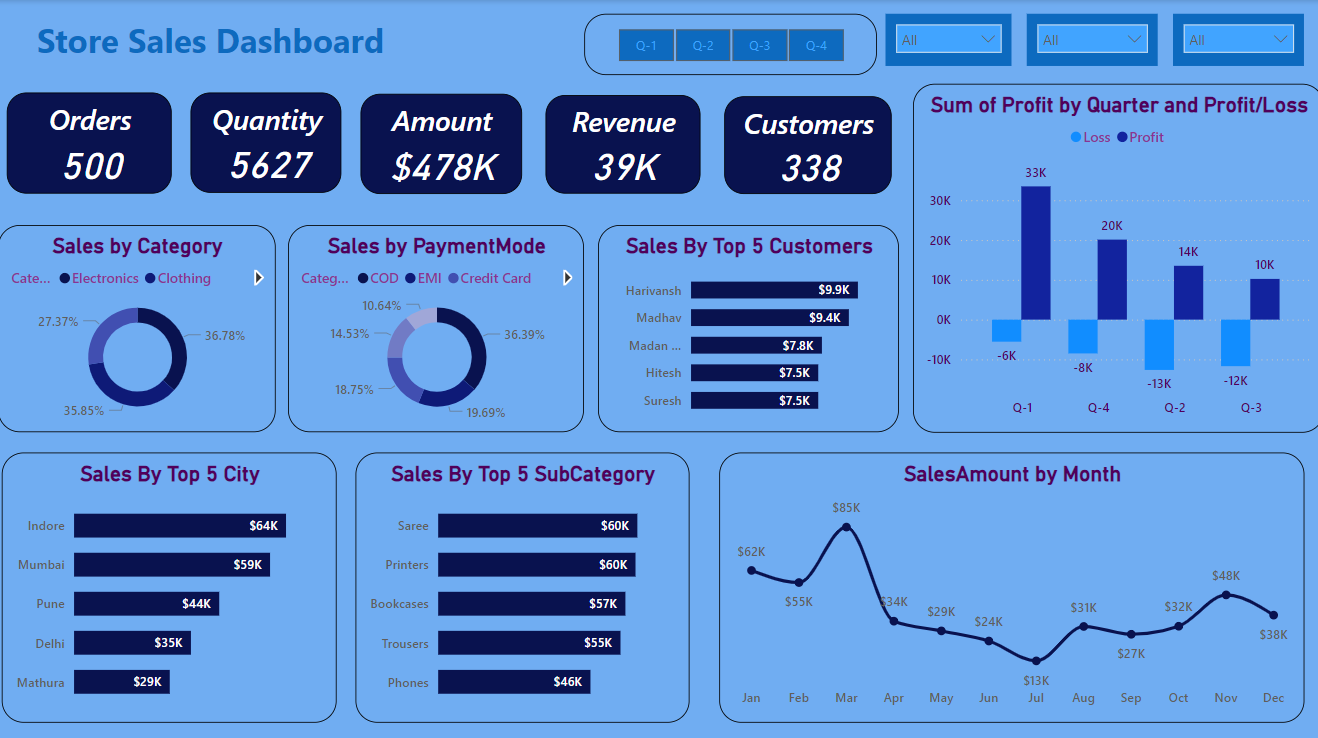

The dashboard page shown, as its layout file describes it:
{"tool":"powerbi","page":{"name":"Page 1","canvas":[1280,720],"ordinal":0},"visuals":[{"type":"card","title":"Orders","fields":{"Values":["DAX Measures.Orders"]},"box":[8,89.5,159.3,97.7],"z":0},{"type":"card","title":"Quantity","fields":{"Values":["DAX Measures.Quantity"]},"box":[185.8,89,146,96.5],"z":1000},{"type":"card","title":"Amount","fields":{"Values":["DAX Measures.SalesAmount"]},"box":[349.9,90.2,155.6,96.5],"z":2000},{"type":"card","title":"Revenue","fields":{"Values":["DAX Measures.Revenue"]},"box":[528.4,91.4,149.6,95.3],"z":3000},{"type":"card","title":"Customers","fields":{"Values":["DAX Measures.Customers"]},"box":[700.9,92.7,161.7,94.1],"z":4000},{"type":"donutChart","title":"Sales by Category","fields":{"Category":["Orders.Category"],"Y":["DAX Measures.SalesAmount"]},"box":[0,217.2,267.8,200.3],"z":5000},{"type":"donutChart","title":"Sales by PaymentMode","fields":{"Y":["DAX Measures.SalesAmount"],"Category":["Orders.PaymentMode"]},"box":[279.9,217.2,285.9,200.3],"z":6000},{"type":"barChart","title":"Sales By Top 5 Customers","fields":{"Category":["Orders.CustomerName"],"Y":["DAX Measures.SalesAmount"]},"box":[579.1,217.2,290.8,200.3],"z":7000},{"type":"clusteredColumnChart","title":"Sum of Profit by Quarter and Profit/Loss","fields":{"Category":["Calender.Q_Name"],"Series":["Orders.Profit/Loss"],"Y":["Orders.Profit"]},"box":[883.1,80.8,396.9,336.6],"z":8000},{"type":"barChart","title":"Sales By Top 5 City","fields":{"Category":["Orders.City"],"Y":["DAX Measures.SalesAmount"]},"box":[3.6,436.7,323.3,260.6],"z":9000},{"type":"barChart","title":"Sales By Top 5 SubCategory","fields":{"Y":["DAX Measures.SalesAmount"],"Category":["Orders.Sub-Category"]},"box":[345,436.7,322.1,260.6],"z":10000},{"type":"lineChart","fields":{"Y":["DAX Measures.SalesAmount"],"Category":["Calender.Month"]},"box":[696.1,436.7,564.6,260.6],"z":11000},{"type":"slicer","fields":{"Values":["Orders.Category"]},"box":[1134.1,13.3,126.7,50.7],"z":12000},{"type":"slicer","fields":{"Values":["Orders.PaymentMode"]},"box":[992.9,13.3,126.7,50.7],"z":12001},{"type":"slicer","fields":{"Values":["Orders.City"]},"box":[856.6,13.3,121.9,50.7],"z":12002},{"type":"slicer","fields":{"Values":["Calender.Q_Name"]},"box":[565.8,13.3,282.3,59.1],"z":12003},{"type":"textbox","box":[32.6,12.1,429.5,63.9],"z":12004}]}

Visuals, with their boxes in screenshot pixels (x1, y1, x2, y2), scaled from the page's 1280x720 canvas onto the 1318x738 screenshot:
"Orders" card: 8 92 172 192
"Quantity" card: 191 91 342 190
"Amount" card: 360 92 521 191
"Revenue" card: 544 94 698 191
"Customers" card: 722 95 888 191
"Sales by Category" donutChart: 0 223 276 428
"Sales by PaymentMode" donutChart: 288 223 583 428
"Sales By Top 5 Customers" barChart: 596 223 896 428
"Sum of Profit by Quarter and Profit/Loss" clusteredColumnChart: 909 83 1317 428
"Sales By Top 5 City" barChart: 4 448 337 715
"Sales By Top 5 SubCategory" barChart: 355 448 687 715
lineChart - DAX Measures.SalesAmount x Calender.Month: 717 448 1298 715
slicer - Orders.Category: 1168 14 1298 66
slicer - Orders.PaymentMode: 1022 14 1153 66
slicer - Orders.City: 882 14 1008 66
slicer - Calender.Q_Name: 583 14 873 74
textbox: 34 12 476 78
